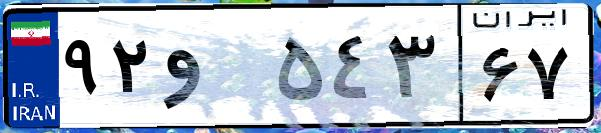2: (110, 28, 158, 98)
3: (385, 28, 445, 110)
4: (330, 28, 385, 110)
5: (270, 28, 330, 110)
6: (475, 38, 525, 113)
7: (525, 38, 570, 115)
9: (57, 26, 110, 100)
و: (158, 20, 270, 120)
